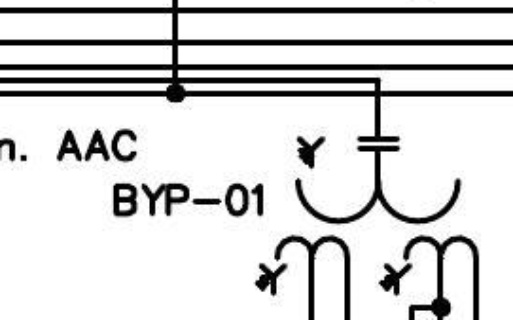115_cvt_3p: (253, 135, 480, 298)
